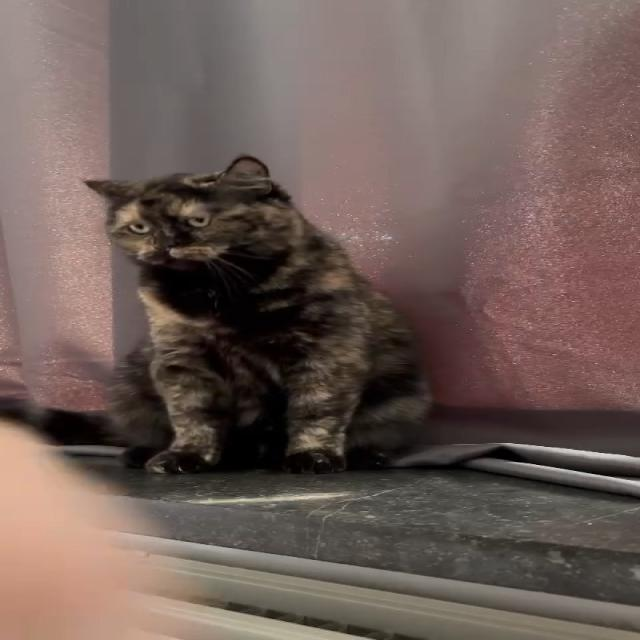authorized: (81, 154, 434, 474)
